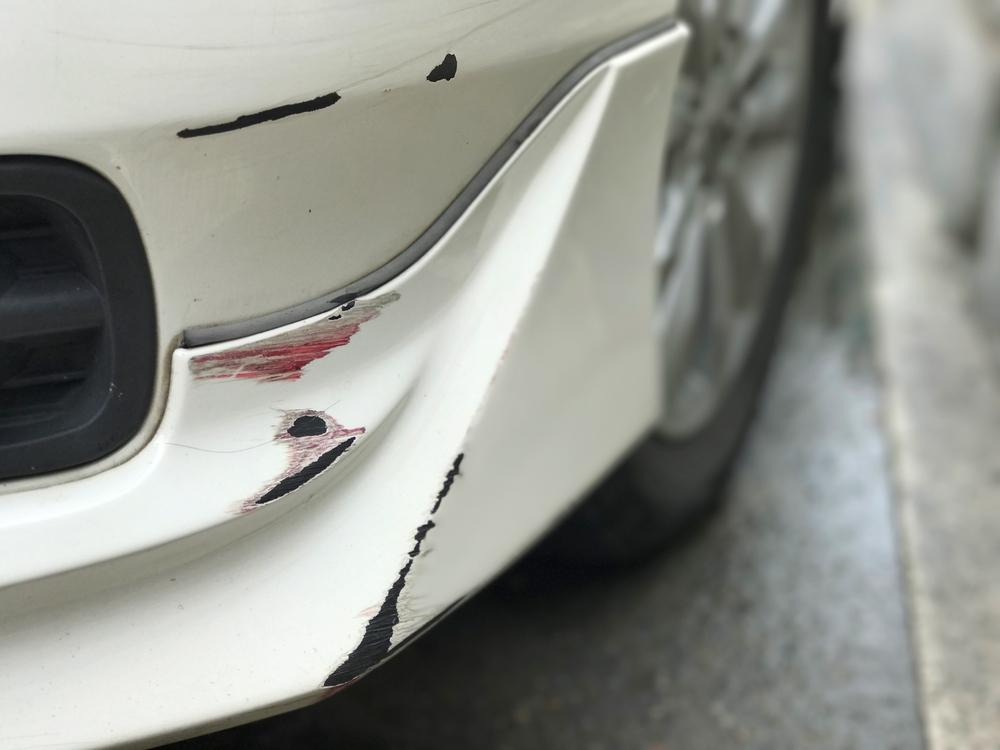scratch: (184, 285, 407, 514), (320, 447, 472, 693), (172, 45, 482, 140)
